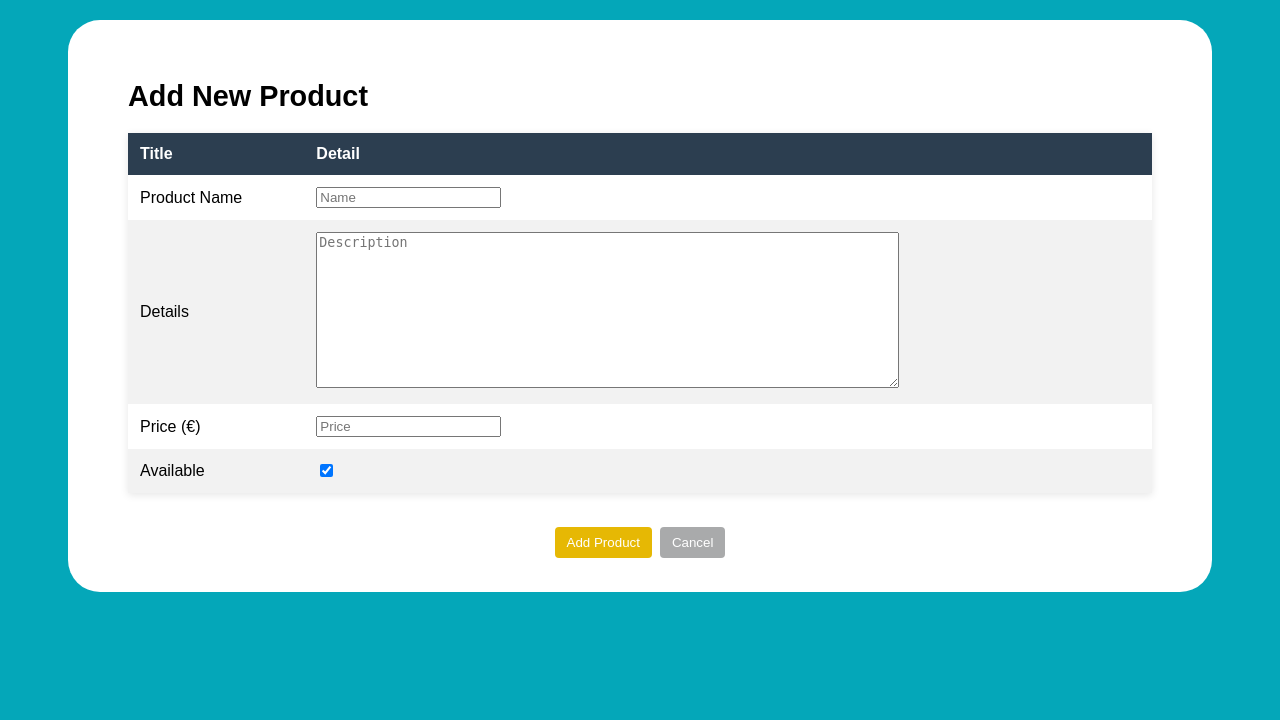
it: AddProduct › should show error messages for invalid inputs
Click the button "Add Product": (603, 542) [555,527,652,558]
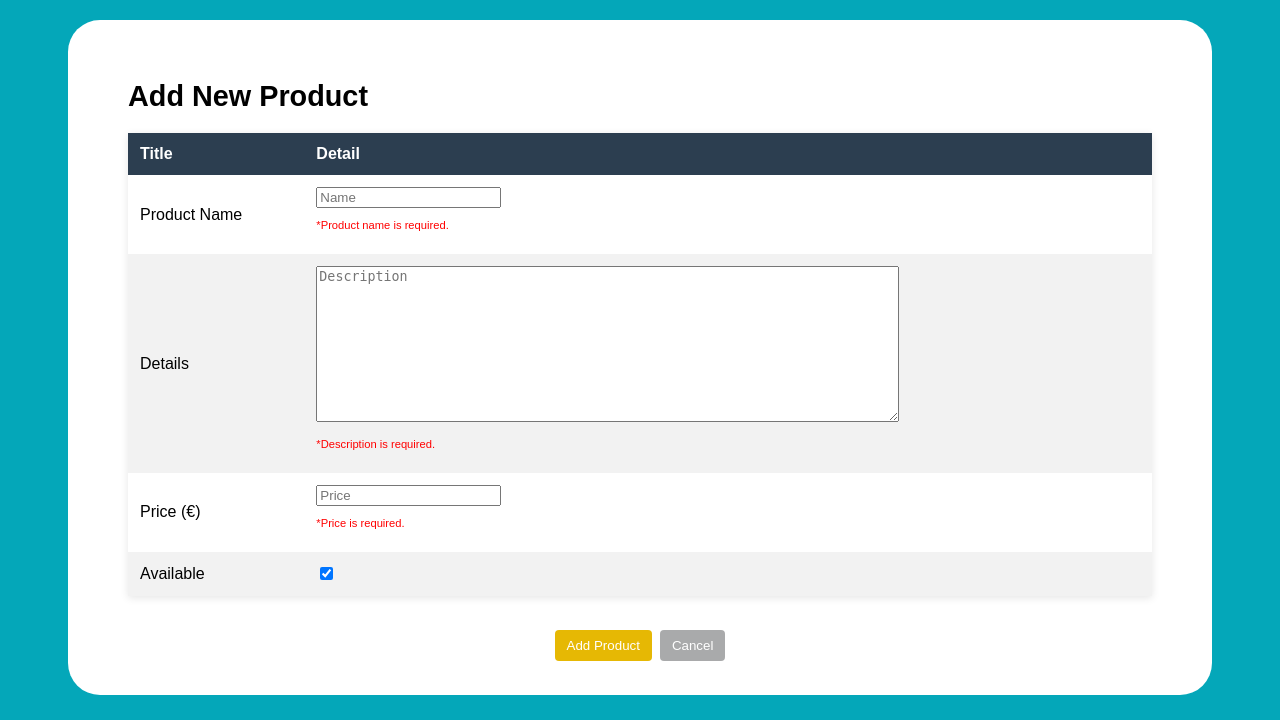
Result: the text "*Product name is required." is shown at [316,219,449,231]
Result: the text "*Description is required." is shown at [316,438,435,450]
Result: the text "*Price is required." is shown at [316,517,405,529]
